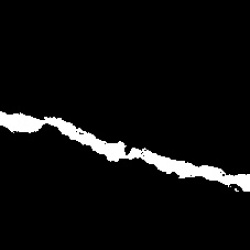crack: (1, 110, 248, 195)
